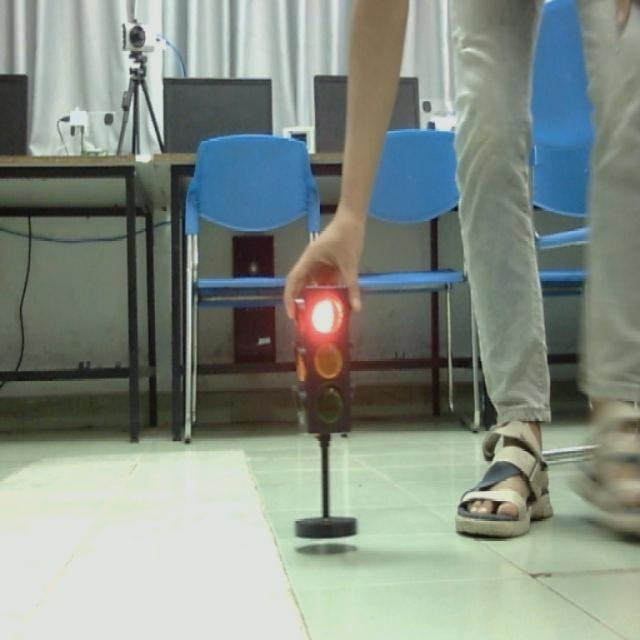Red: (288, 280, 360, 443)
